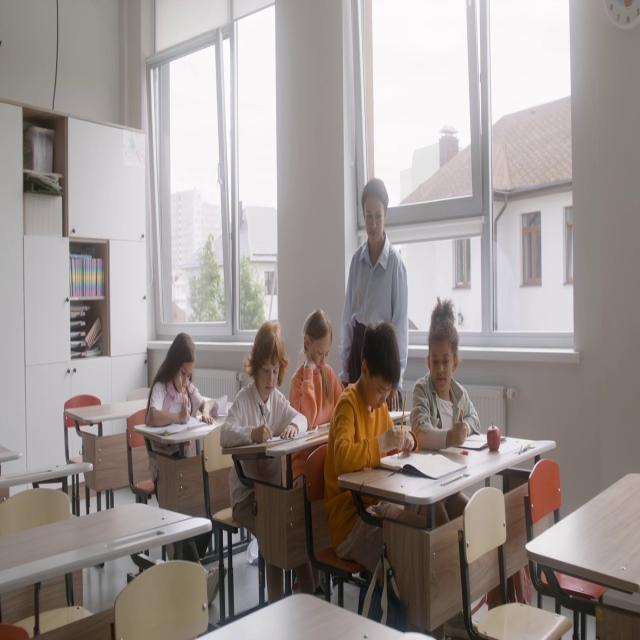reading: (288, 311, 338, 457)
turning: (410, 298, 480, 456)
writing: (328, 322, 423, 624), (228, 322, 318, 609), (145, 333, 218, 484)
